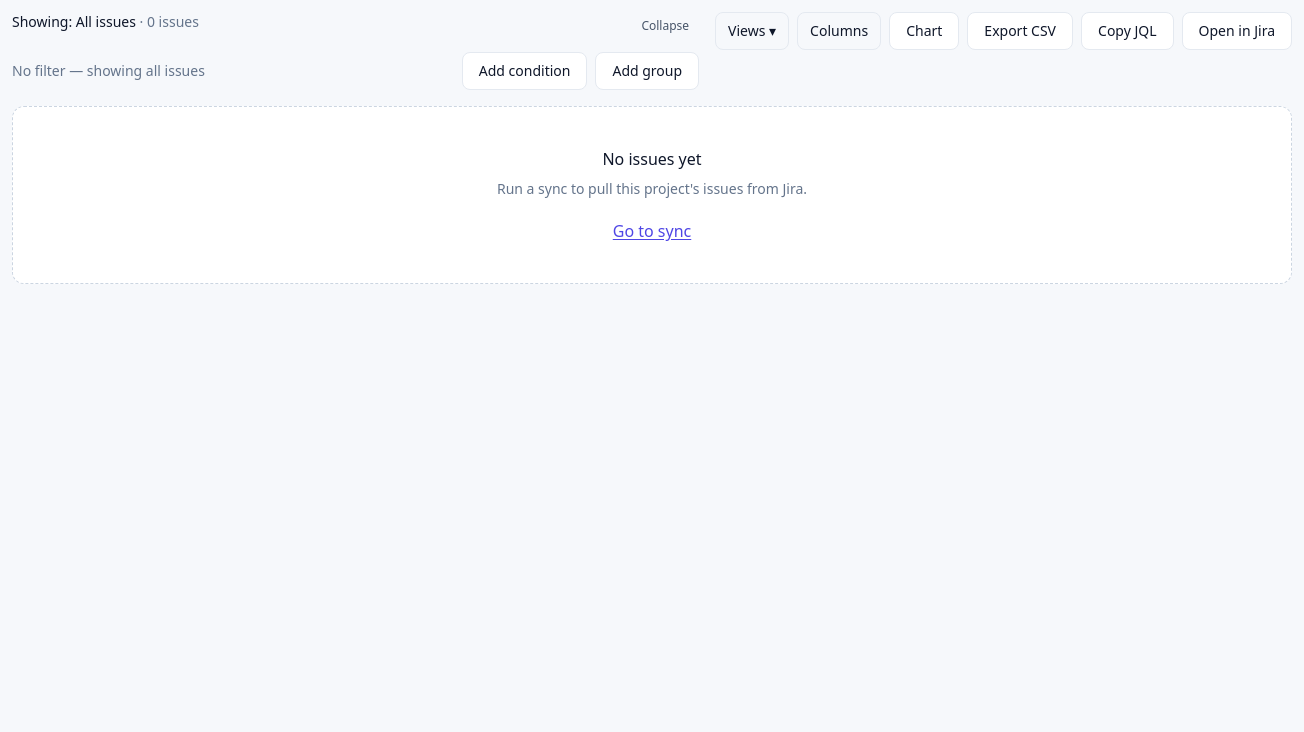
Test case: IssueList › tells a filtered empty result to change the filter, not to sync
Click the button "Add condition". click: (525, 71)
box: x1=462 y1=52 x2=588 y2=90
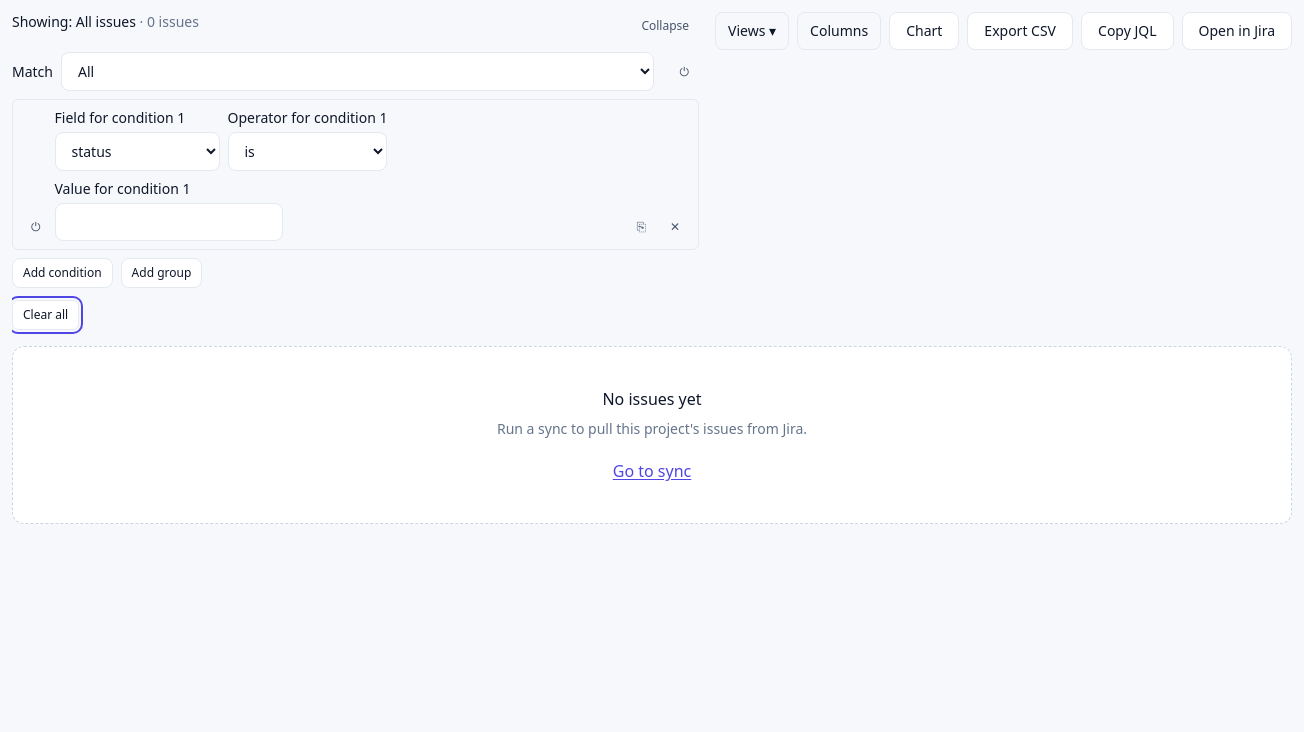
Type "Done" into the field labelled "Value for condition 1". click: (168, 222)
box: x1=54 y1=203 x2=282 y2=241
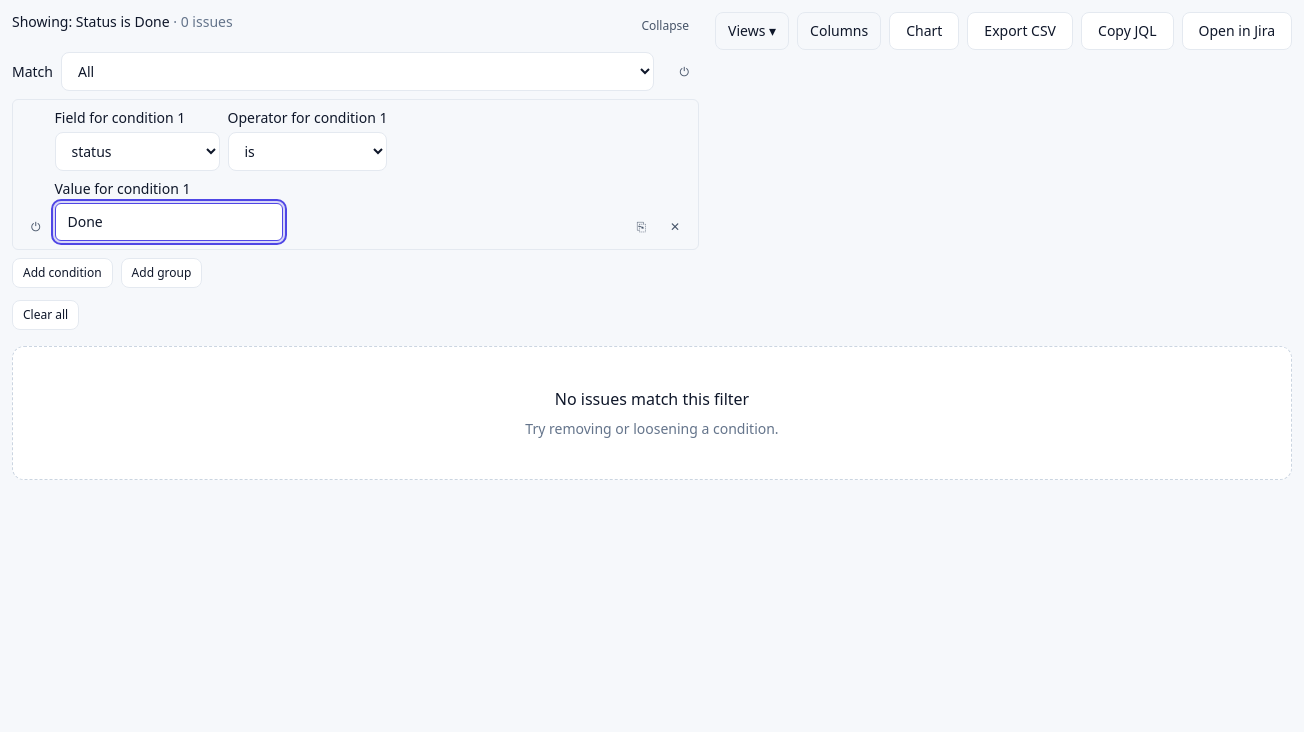
Now the text "No issues match this filter" is shown, box x1=555 y1=387 x2=749 y2=411
Now the text "No issues yet" is gone
Now the link "Go to sync" is gone
